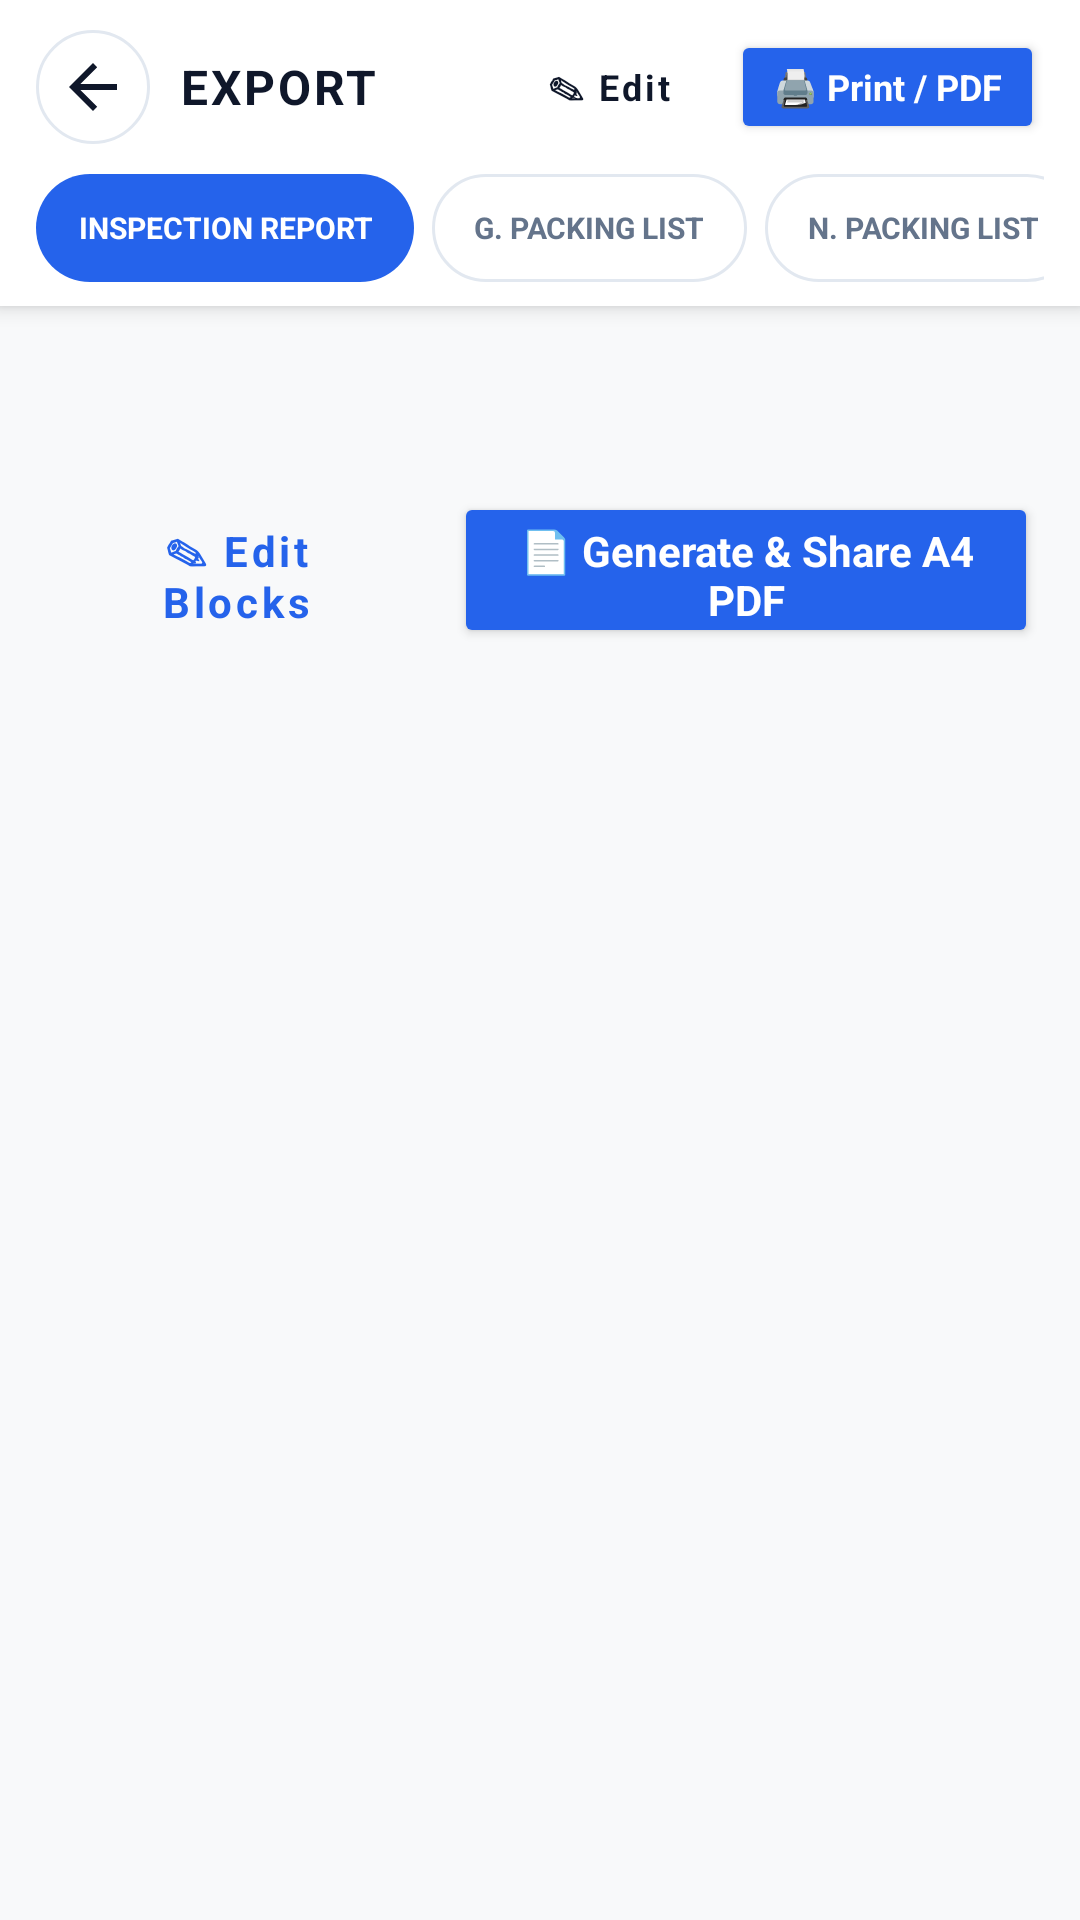

Point at icon controls on the screen. Image size 1080 x 1920, points as point (x, y).
Back: point (93, 87)
